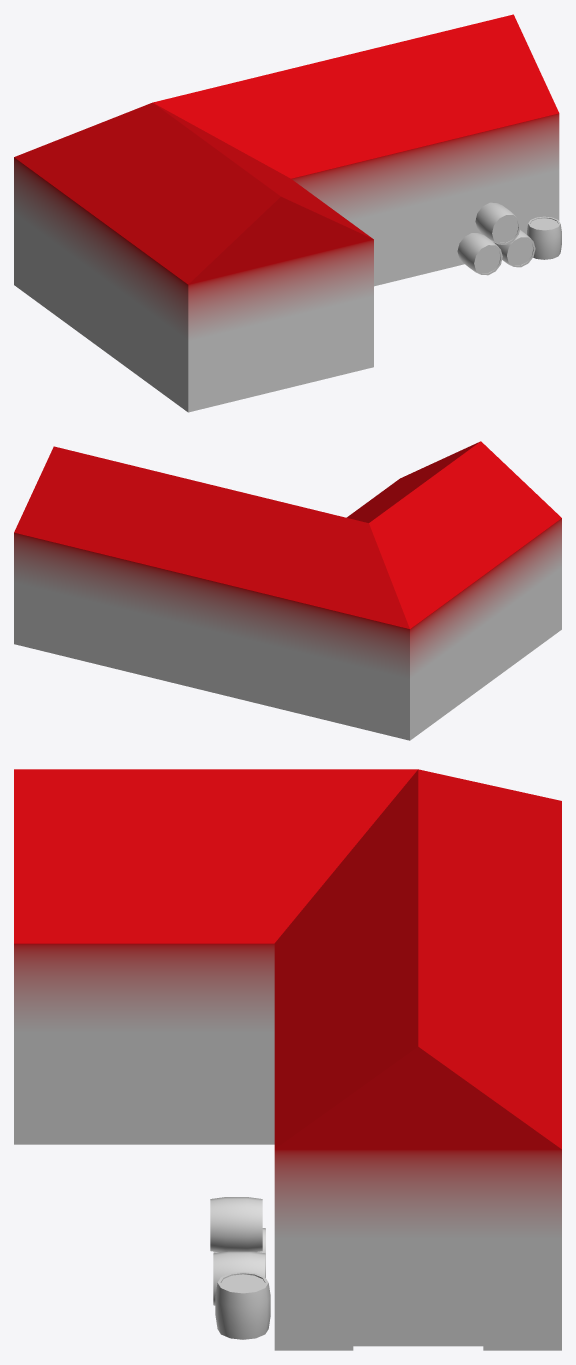
File: bar.fbx
3 views of the same model, one above another, from view 1: azimuth 30°, elevation 25°; view 2: azimuth 150°, elevation 25°; view 3: azimuth 270°, elevation 25° (orthographic). The views are drawn at different scales.
Visible parts, largest first — view 1: pCube6; view 2: pCube6; view 3: pCube6.
Part boxes in pixels (box(x1,y1,x2,y2)): pCube6: box(14, 14, 561, 412); pCube6: box(14, 441, 561, 740); pCube6: box(14, 769, 561, 1350).
Bounding box in the file's own units: 510 × 207 × 339.
